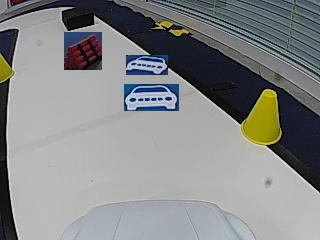block: (61, 7, 94, 31)
cone: (241, 89, 281, 144), (0, 51, 16, 83)
